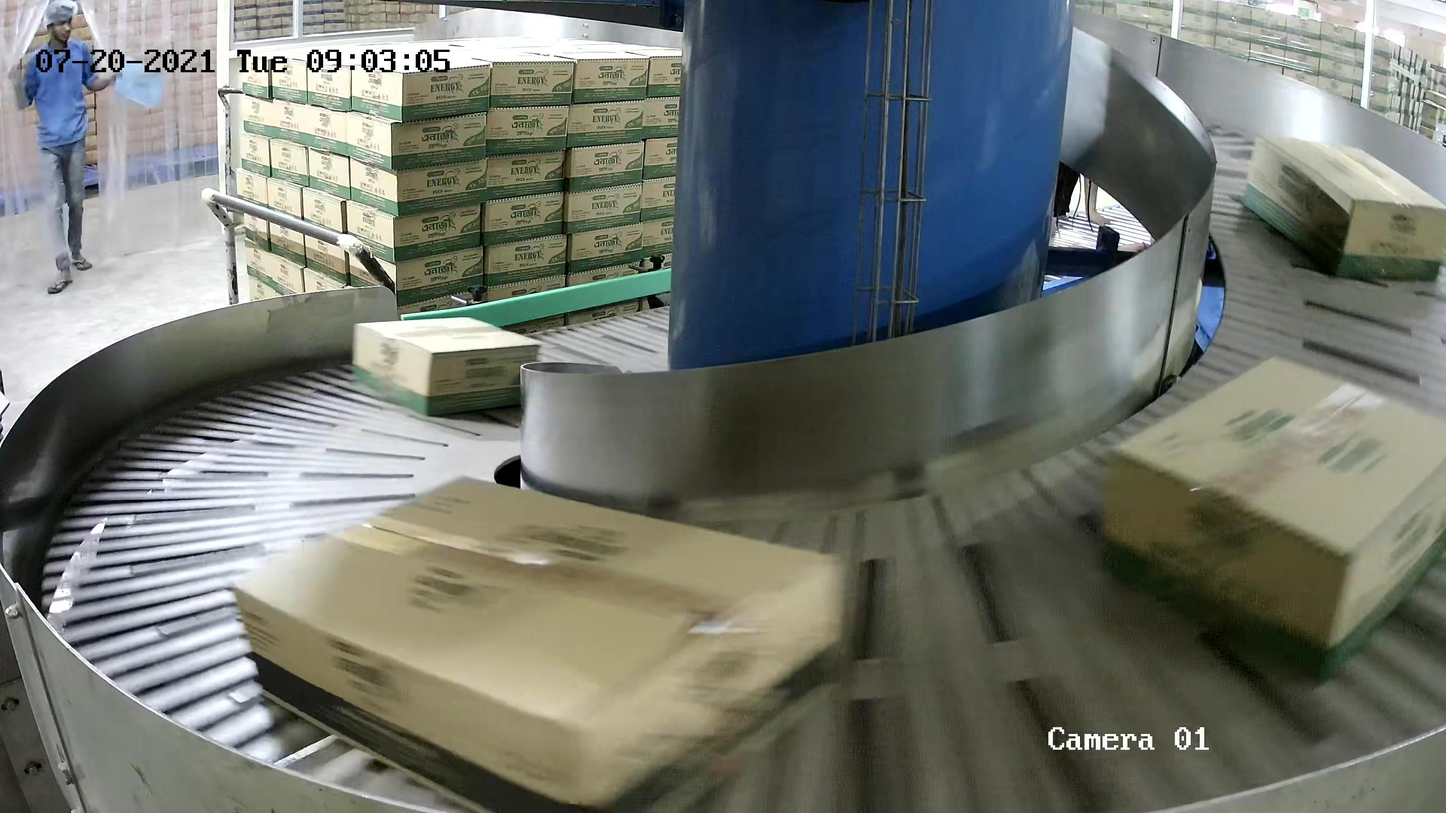Box: (227, 472, 853, 813), (1099, 352, 1446, 690), (1240, 129, 1446, 286), (352, 316, 541, 418)
